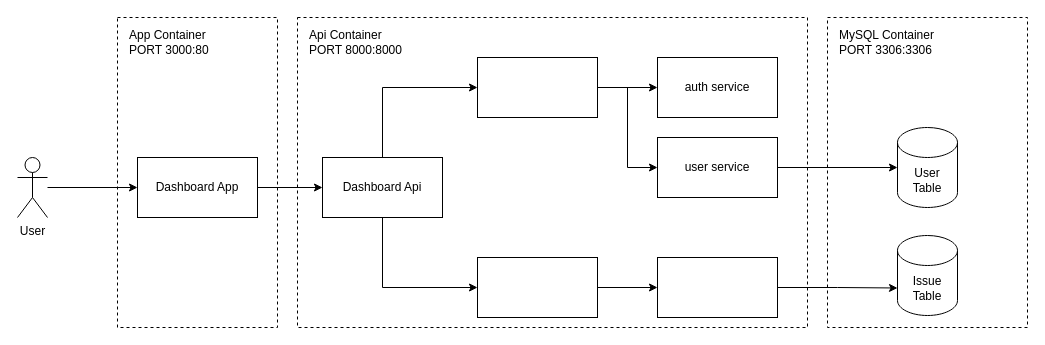
The diagram is 1045 pixels wide and 345 high, and some of its shapes have lost their labels. The box of each missing label's shape, as (x1, y1, x2, y2) in pixels:
auth controller: (476, 56, 598, 118)
issue controller: (476, 256, 598, 318)
issue service: (656, 256, 778, 318)
